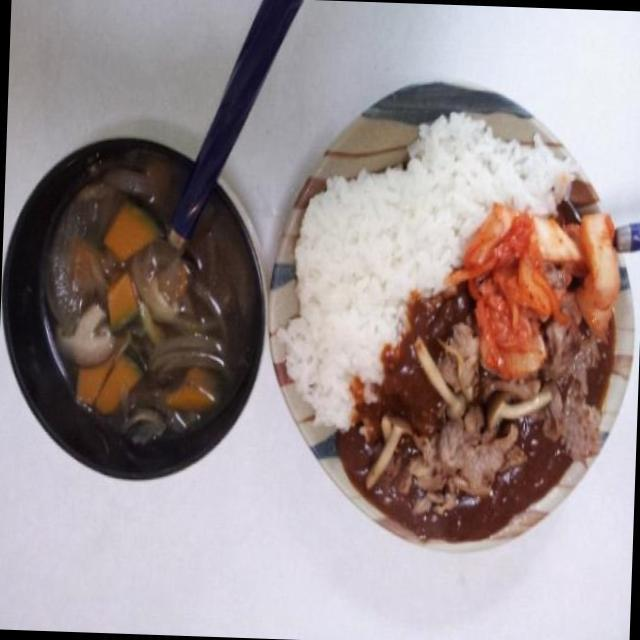Beef Curry: (368, 283, 618, 554)
